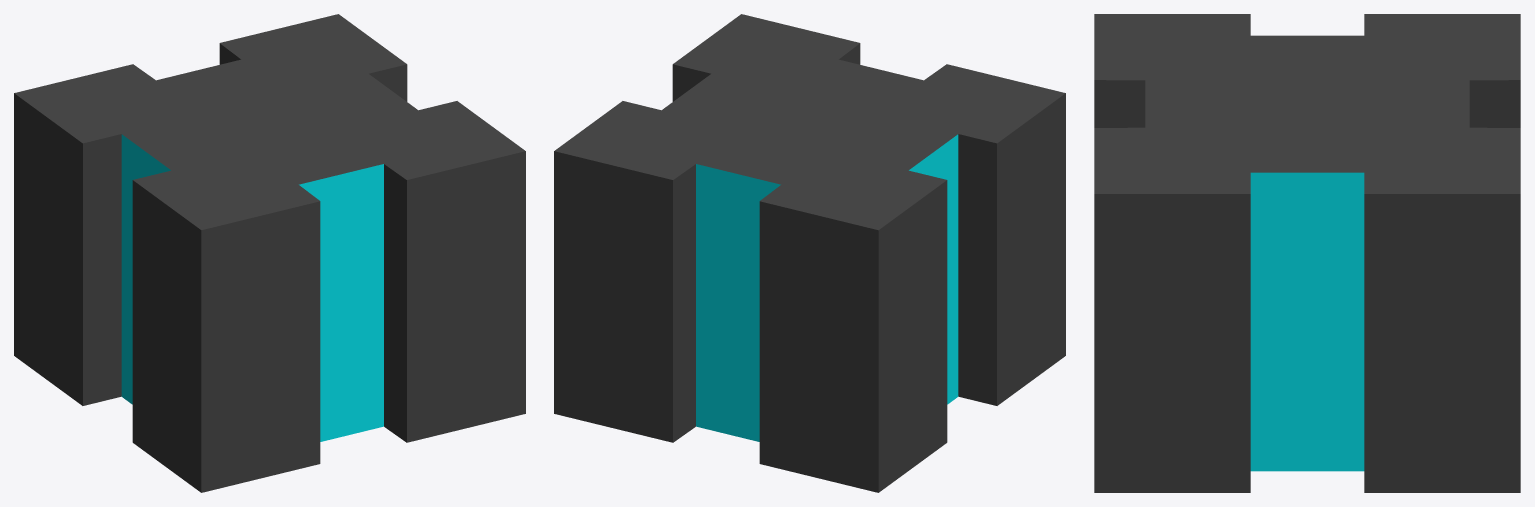
File: Platform Pillar M.fbx
The picture shows the model from 3 angles, left to right: view 1: azimuth 30°, elevation 25°; view 2: azimuth 150°, elevation 25°; view 3: azimuth 270°, elevation 25°; orthographic projection. The views are drawn at different scales.
Parts seen in each view (by area): view 1: Pillar M; view 2: Pillar M; view 3: Pillar M.
Part boxes in pixels (<box>): Pillar M: <box>14,14,525,492</box>; Pillar M: <box>554,14,1065,492</box>; Pillar M: <box>1094,14,1520,492</box>.
Size of the model in its own units: 129 by 100 by 129.
